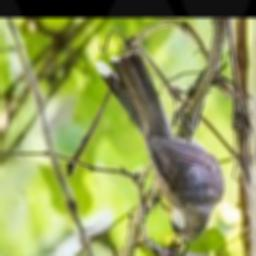Cuckoo: (93, 49, 225, 241)
